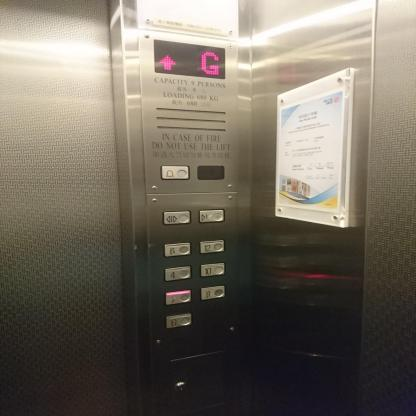10: (199, 263, 225, 277)
12: (198, 239, 226, 254)
2: (164, 289, 192, 305)
4: (163, 265, 192, 282)
6: (163, 241, 192, 258)
8: (198, 285, 226, 301)
G: (164, 312, 193, 329)
alarm: (158, 164, 190, 182)
close: (197, 208, 226, 224)
empty: (195, 164, 226, 182)
led: (150, 35, 227, 82)
open: (162, 209, 192, 225)
